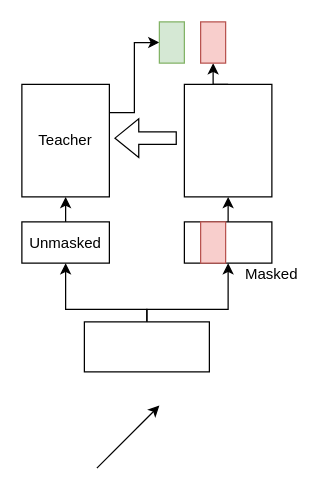
Some shapes in this 331 by 500 pixel diagram are drawn without their labels. The centre of each missing label's shape, as x and y in pixels:
"Feature Extractor" goes at [146,346].
"Student" goes at [227,140].
